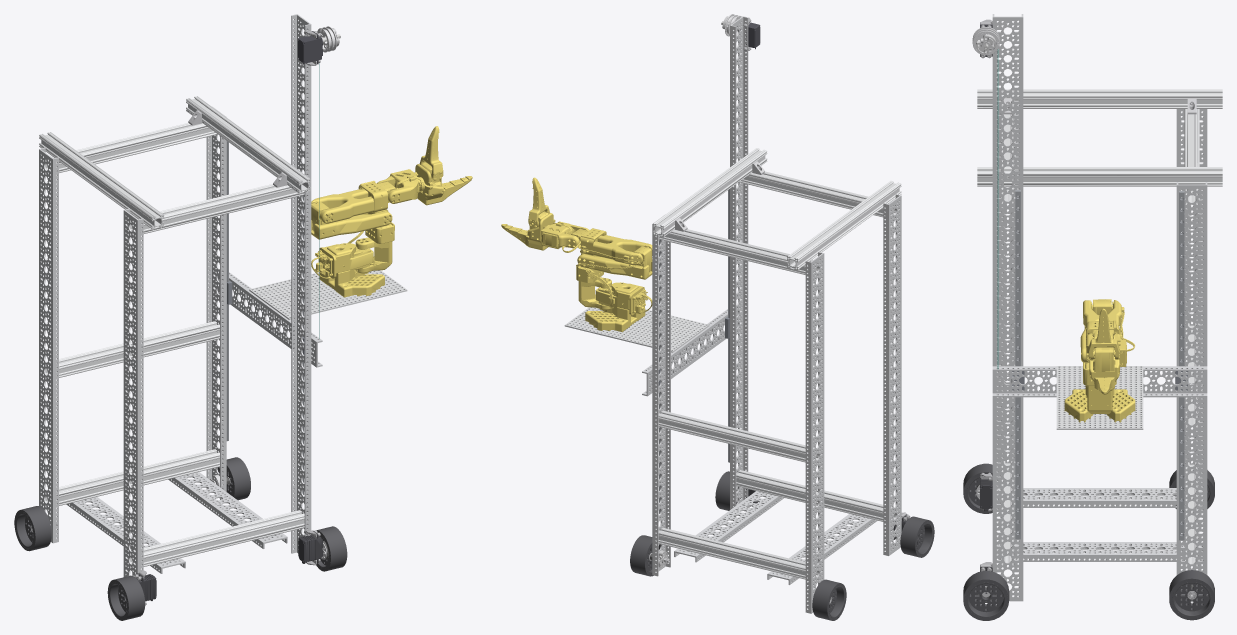
File: robot.glb
The picture shows the model from 3 angles, left to right: view 1: azimuth 30°, elevation 25°; view 2: azimuth 150°, elevation 25°; view 3: azimuth 270°, elevation 25°; orthographic projection. The views are drawn at different scales.
Visible parts, largest first — view 1: object 1, object 2, anim_gr_19_SO101_L0_base, anim_gr_14_Carriage_1__1, anim_gr_22_SO101_L3_forearm, anim_gr_14_Carriage_1__3, anim_gr_2_3614_0014_0072_Rhino_Wheel_72mm_14mm_bore_30A_1, anim_gr_9_3614_0014_0072_Rhino_Wheel_72mm_14mm_bore_30A_3, anim_gr_20_SO101_L1_shoulder, anim_gr_21_SO101_L2_upper_arm, object 21, anim_gr_24_SO101_L5_gripper (+6 smaller); view 2: object 1, object 2, anim_gr_19_SO101_L0_base, anim_gr_14_Carriage_1__1, anim_gr_22_SO101_L3_forearm, anim_gr_14_Carriage_1__3, anim_gr_9_3614_0014_0072_Rhino_Wheel_72mm_14mm_bore_30A_3, anim_gr_2_3614_0014_0072_Rhino_Wheel_72mm_14mm_bore_30A_1, anim_gr_20_SO101_L1_shoulder, anim_gr_21_SO101_L2_upper_arm, anim_gr_23_SO101_L4_wrist, anim_gr_24_SO101_L5_gripper (+2 smaller); view 3: object 1, object 2, object 21, anim_gr_14_Carriage_1__3, anim_gr_14_Carriage_1__1, anim_gr_5_3614_0014_0072_Rhino_Wheel_72mm_14mm_bore_30A_2, anim_gr_12_3614_0014_0072_Rhino_Wheel_72mm_14mm_bore_30A_4, anim_gr_19_SO101_L0_base, anim_gr_24_SO101_L5_gripper, anim_gr_22_SO101_L3_forearm, anim_gr_20_SO101_L1_shoulder, anim_gr_2_3614_0014_0072_Rhino_Wheel_72mm_14mm_bore_30A_1 (+6 smaller).
Boxes of the visible parts, bbox=[...] form: object 1: bbox=[39, 14, 311, 576]; object 2: bbox=[39, 96, 311, 566]; anim_gr_19_SO101_L0_base: bbox=[311, 243, 384, 297]; anim_gr_14_Carriage_1__1: bbox=[249, 270, 407, 319]; anim_gr_22_SO101_L3_forearm: bbox=[311, 181, 388, 230]; anim_gr_14_Carriage_1__3: bbox=[217, 272, 322, 367]; anim_gr_2_3614_0014_0072_Rhino_Wheel_72mm_14mm_bore_30A_1: bbox=[107, 575, 145, 620]; anim_gr_9_3614_0014_0072_Rhino_Wheel_72mm_14mm_bore_30A_3: bbox=[14, 506, 51, 551]; anim_gr_20_SO101_L1_shoulder: bbox=[347, 209, 394, 273]; anim_gr_21_SO101_L2_upper_arm: bbox=[311, 202, 392, 239]; object 21: bbox=[226, 141, 304, 494]; anim_gr_24_SO101_L5_gripper: bbox=[415, 162, 472, 205]; object 1: bbox=[652, 16, 901, 613]; object 2: bbox=[652, 148, 901, 579]; anim_gr_19_SO101_L0_base: bbox=[585, 282, 652, 332]; anim_gr_14_Carriage_1__1: bbox=[564, 307, 709, 352]; anim_gr_22_SO101_L3_forearm: bbox=[578, 228, 652, 271]; anim_gr_14_Carriage_1__3: bbox=[642, 309, 738, 396]; anim_gr_9_3614_0014_0072_Rhino_Wheel_72mm_14mm_bore_30A_3: bbox=[812, 579, 846, 620]; anim_gr_2_3614_0014_0072_Rhino_Wheel_72mm_14mm_bore_30A_1: bbox=[900, 516, 934, 557]; anim_gr_20_SO101_L1_shoulder: bbox=[576, 253, 612, 309]; anim_gr_21_SO101_L2_upper_arm: bbox=[576, 253, 652, 279]; anim_gr_23_SO101_L4_wrist: bbox=[541, 221, 597, 252]; anim_gr_24_SO101_L5_gripper: bbox=[501, 211, 555, 250]; object 1: bbox=[992, 14, 1207, 602]; object 2: bbox=[977, 89, 1222, 565]; object 21: bbox=[1015, 190, 1184, 540]; anim_gr_14_Carriage_1__3: bbox=[992, 366, 1207, 397]; anim_gr_14_Carriage_1__1: bbox=[1056, 366, 1143, 429]; anim_gr_5_3614_0014_0072_Rhino_Wheel_72mm_14mm_bore_30A_2: bbox=[963, 571, 1009, 620]; anim_gr_12_3614_0014_0072_Rhino_Wheel_72mm_14mm_bore_30A_4: bbox=[1169, 570, 1214, 620]; anim_gr_19_SO101_L0_base: bbox=[1064, 385, 1135, 422]; anim_gr_24_SO101_L5_gripper: bbox=[1086, 347, 1119, 394]; anim_gr_22_SO101_L3_forearm: bbox=[1083, 299, 1124, 339]; anim_gr_20_SO101_L1_shoulder: bbox=[1083, 362, 1116, 413]; anim_gr_2_3614_0014_0072_Rhino_Wheel_72mm_14mm_bore_30A_1: bbox=[963, 463, 992, 513].
Bounding box in the file's own units: 0.8014 × 1.02 × 0.406.
